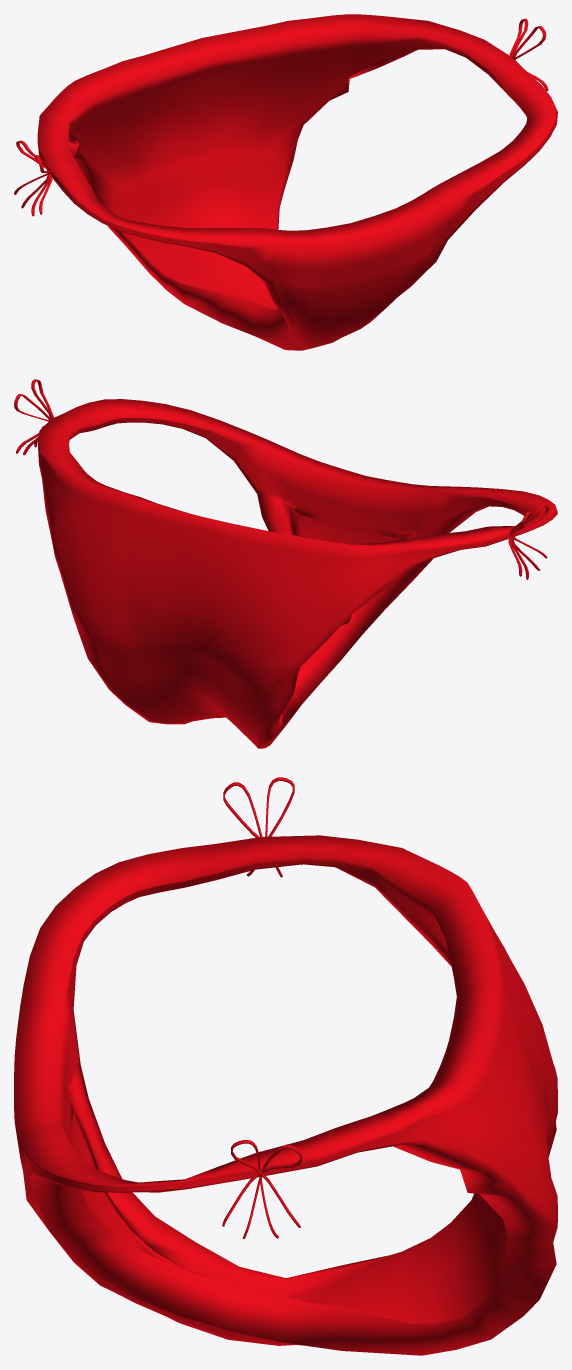
Rendered from Underware_Set_2.fbx.
3 views of the same model, one above another, from view 1: azimuth 30°, elevation 25°; view 2: azimuth 150°, elevation 25°; view 3: azimuth 270°, elevation 25° (orthographic). The views are drawn at different scales.
Parts seen in each view (by area): view 1: Underware2; view 2: Underware2; view 3: Underware2.
Part boxes in pixels (bbox=[...]): Underware2: bbox=[14, 14, 557, 350]; Underware2: bbox=[14, 379, 557, 748]; Underware2: bbox=[14, 777, 557, 1355].
Size of the model in its own units: 24.65 by 12.03 by 15.53.
